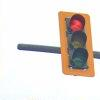traffic lights: (58, 11, 96, 78)
